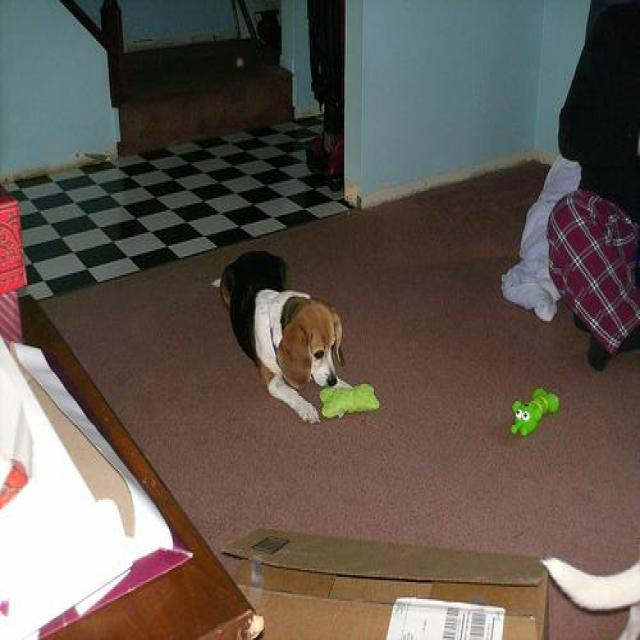beagle: (209, 254, 357, 430)
